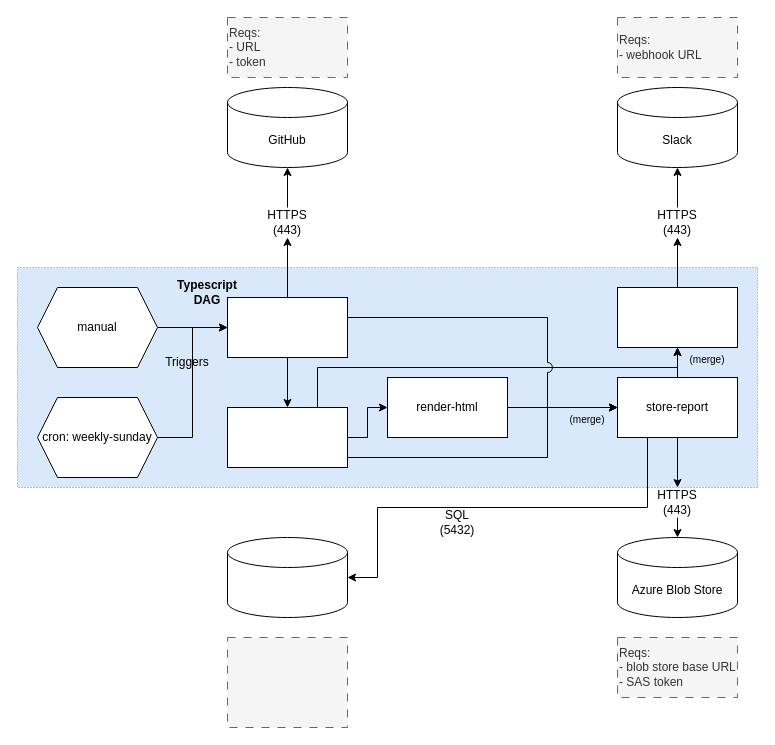
The diagram is 775 pixels wide and 745 high, and some of its shapes have lost their labels. The centre of each missing label's shape, as x and y in pixels:
"diff-seps" belongs at point 287,437.
"fetch-seps" belongs at point 287,327.
"notify" belongs at point 677,317.
"Postgres" belongs at point 287,577.
"Reqs: - hostname:port - dbname - user - password" belongs at point 287,682.
